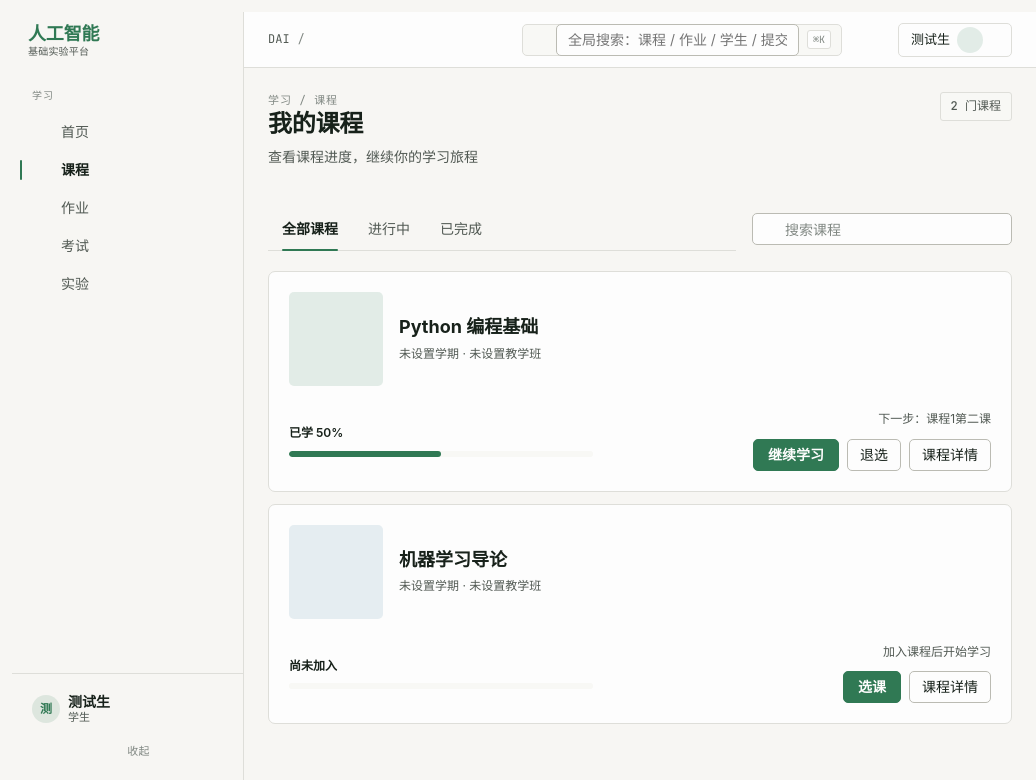
Test: 我的课程 CourseListView（参考图 02） › 搜索按课程标题过滤
The width and height of the screenshot is (1036, 780).
In the search field with class "search-input": (882, 229) left=752, top=213, right=1012, bottom=245, type "Python"
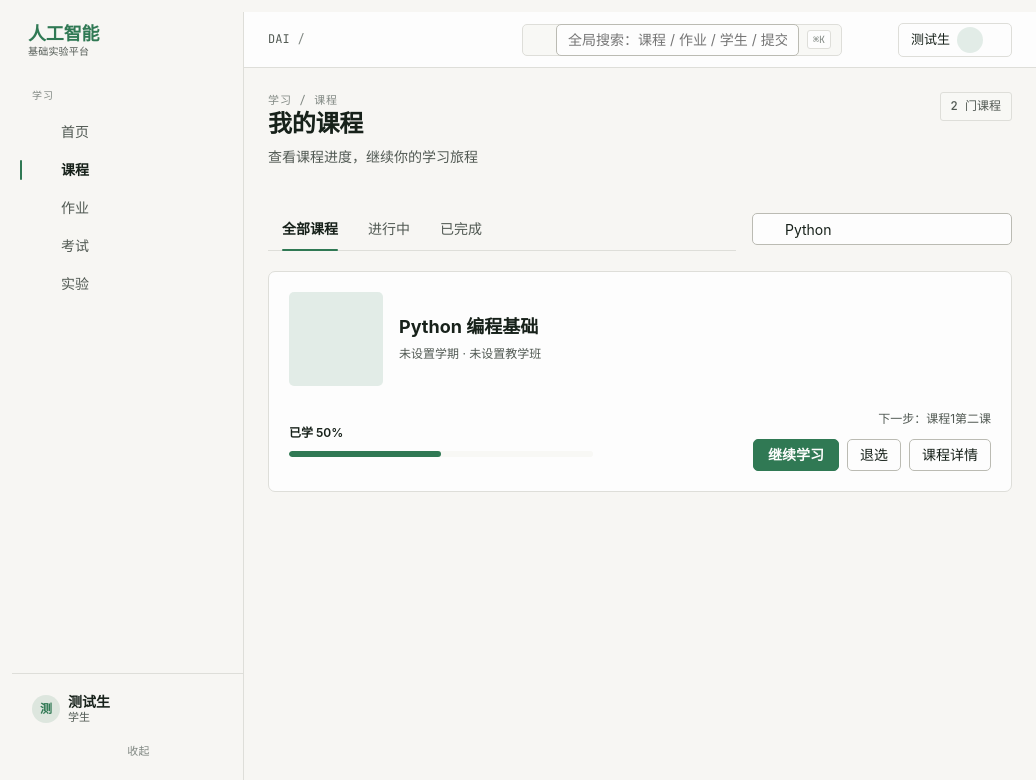
Expected: the text "Python 编程基础" is shown, left=399, top=315, right=541, bottom=339
Expected: the number of elements with class "course-row" is 1, left=268, top=271, right=1012, bottom=492
Expected: the text "机器学习导论" is gone
